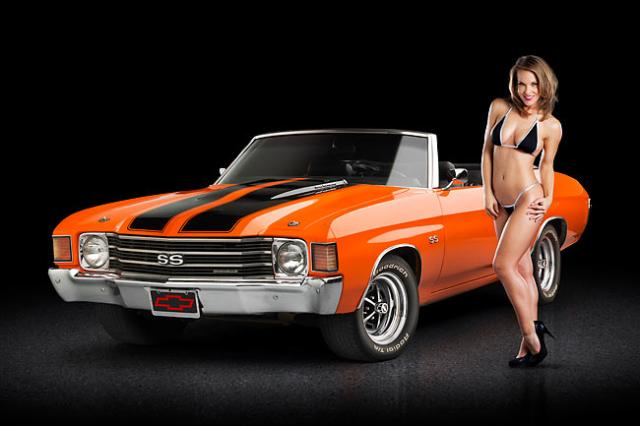chevelle-1972: (48, 129, 497, 360), (525, 173, 590, 301)
